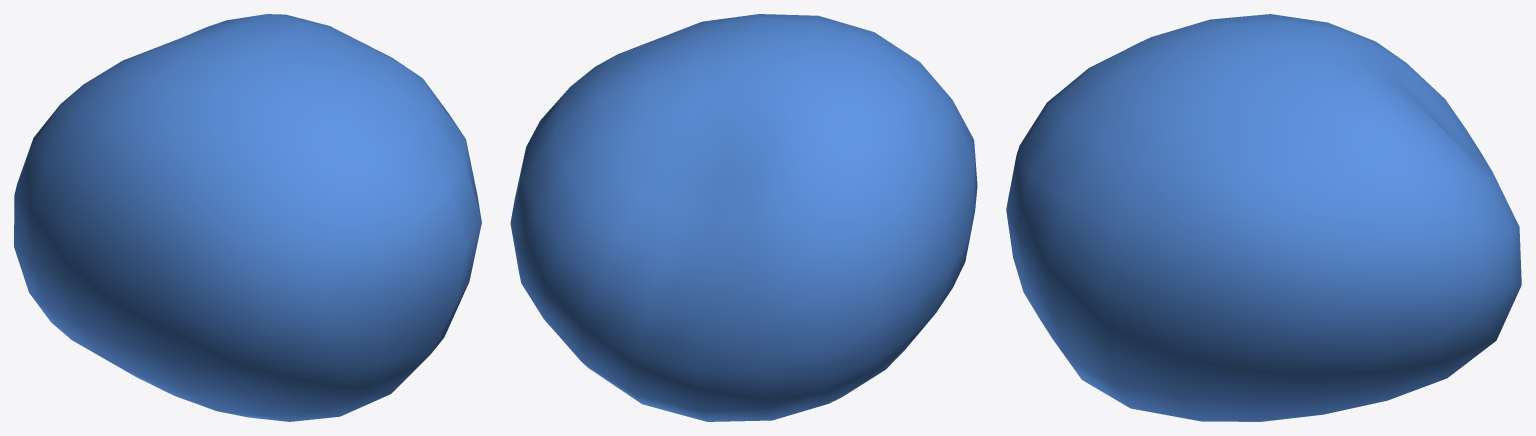
Rendered from Potato1.FBX.
The picture shows the model from 3 angles, left to right: view 1: azimuth 30°, elevation 25°; view 2: azimuth 150°, elevation 25°; view 3: azimuth 270°, elevation 25°; orthographic projection. The views are drawn at different scales.
Visible parts, largest first — view 1: Model; view 2: Model; view 3: Model.
Boxes of the visible parts, x1,y1,x2,y2 form: Model: (14, 14, 481, 421); Model: (510, 14, 977, 421); Model: (1006, 14, 1521, 421).
Bounding box in the file's own units: 0.121 × 0.1329 × 0.1011.
